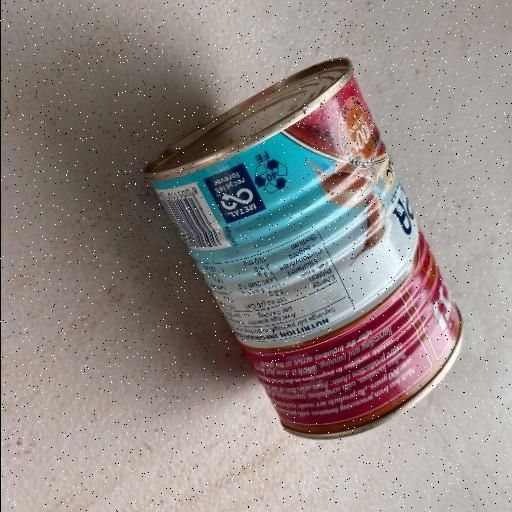Metal: (143, 54, 465, 440)
